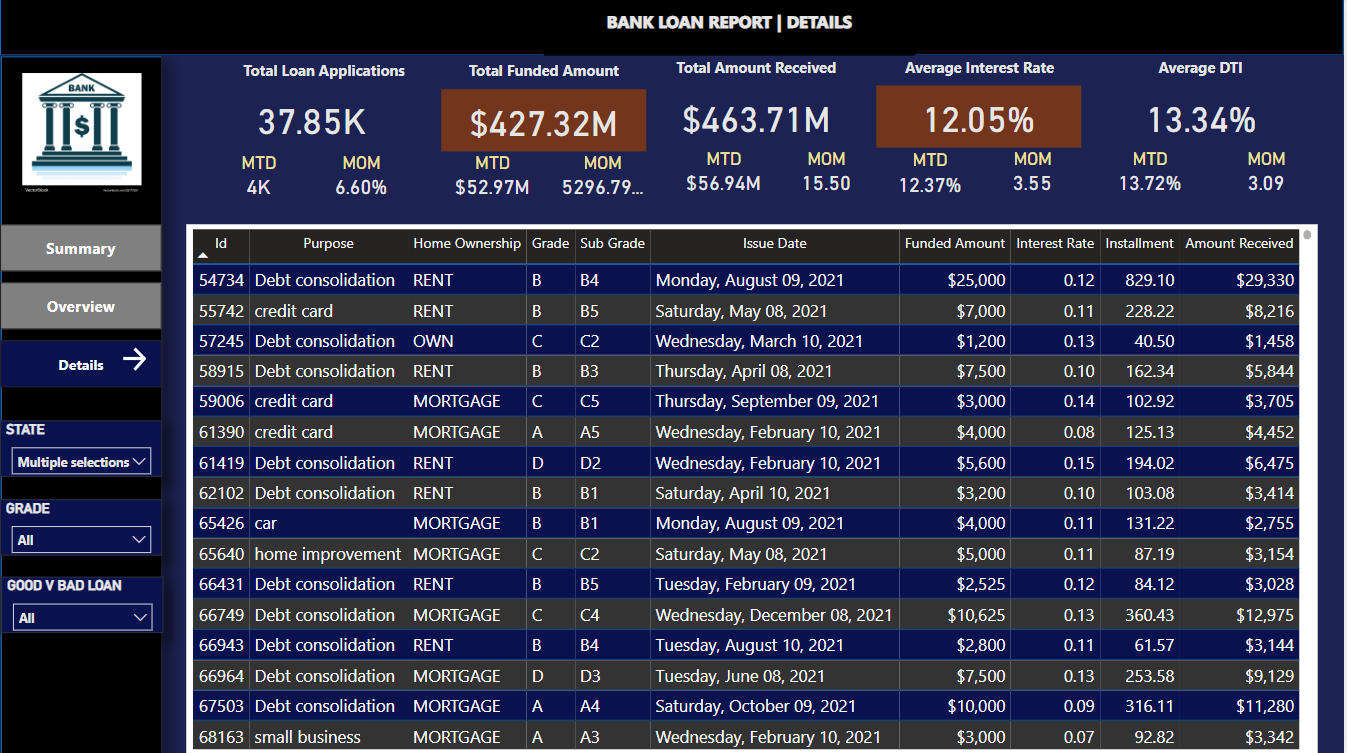

What the dashboard file says about the page in this screenshot:
{"tool":"powerbi","page":{"name":"Details","canvas":[1280,720],"ordinal":2},"visuals":[{"type":"shape","box":[0,54.8,154.8,665.5],"z":0},{"type":"textbox","box":[396.4,0,489.3,54.8],"z":1000},{"type":"textbox","box":[615.5,51.2,209.5,32.1],"z":2000},{"type":"card","fields":{"Values":["Bank_loan_data.Total Funded Amount"]},"box":[420.2,86.9,195.2,59.5],"z":3000},{"type":"textbox","box":[191.7,54.8,198.8,28.6],"z":4000},{"type":"card","title":"MOM","fields":{"Values":["Bank_loan_data.MOM TOTAL AMOUNT RECEIVED"]},"box":[738.1,142.9,97.6,48.8],"z":5000},{"type":"card","fields":{"Values":["Bank_loan_data.Total Loan Applications"]},"box":[197.6,83.3,198.8,63.1],"z":6000},{"type":"card","title":"MTD","fields":{"Values":["Bank_loan_data.MTD LOAN APPLICATIONS"]},"box":[197.6,146.4,97.6,48.8],"z":7000},{"type":"card","title":"MOM","fields":{"Values":["Bank_loan_data.MOM LOAN APPLICATIONS"]},"box":[295.2,146.4,97.6,48.8],"z":8000},{"type":"textbox","box":[413.1,54.8,209.5,32.1],"z":9000},{"type":"card","title":"MTD","fields":{"Values":["Bank_loan_data.MTD FUNDED AMOUNT"]},"box":[420.2,146.4,97.6,48.8],"z":10000},{"type":"card","title":"MOM","fields":{"Values":["Bank_loan_data.MOM FUNDED AMOUNT"]},"box":[525,146.4,97.6,48.8],"z":11000},{"type":"card","fields":{"Values":["Bank_loan_data.Total Amount Received"]},"box":[622.6,83.3,195.2,59.5],"z":12000},{"type":"card","title":"MTD","fields":{"Values":["Bank_loan_data.MTD Amount Received"]},"box":[640.5,142.9,97.6,48.8],"z":13000},{"type":"textbox","box":[835.7,51.2,194,32.1],"z":14000},{"type":"card","fields":{"Values":["Bank_loan_data.Average Interest Rate"]},"box":[834.5,83.3,195.2,59.5],"z":15000},{"type":"card","title":"MTD","fields":{"Values":["Bank_loan_data.MTD Average Rate"]},"box":[836.9,144,97.6,48.8],"z":16000},{"type":"card","title":"MOM","fields":{"Values":["Bank_loan_data.MOM Average Interest Rate"]},"box":[934.5,142.9,97.6,48.8],"z":17000},{"type":"card","fields":{"Values":["Bank_loan_data.Average DTI"]},"box":[1046.4,83.3,195.2,59.5],"z":18000},{"type":"textbox","box":[1046.4,51.2,194,31],"z":19000},{"type":"card","title":"MTD","fields":{"Values":["Bank_loan_data.MTD Average DTI"]},"box":[1046.4,142.9,97.6,48.8],"z":20000},{"type":"card","title":"MOM","fields":{"Values":["Bank_loan_data.MOM Average TDI"]},"box":[1157.1,142.9,97.6,48.8],"z":21000},{"type":"shape","box":[0,0,1279.8,54.8],"z":22000},{"type":"slicer","title":"STATE","fields":{"Values":["Bank_loan_data.address_state"]},"box":[0,402.4,154.8,53.6],"z":23000},{"type":"slicer","title":"GRADE","fields":{"Values":["Bank_loan_data.grade"]},"box":[0,477.4,154.8,53.6],"z":24000},{"type":"slicer","title":"GOOD V BAD LOAN","fields":{"Values":["Bank_loan_data.loan_status (groups)"]},"box":[1.2,551.2,154.8,53.6],"z":25000},{"type":"textbox","box":[517.9,6,353.6,48.8],"z":26000},{"type":"tableEx","fields":{"Values":["Bank_loan_data.id","Bank_loan_data.purpose","Bank_loan_data.home_ownership","Bank_loan_data.grade","Bank_loan_data.sub_grade","Bank_loan_data.issue_date","Bank_loan_data.Total Funded Amount","Sum(Bank_loan_data.int_rate)","Sum(Bank_loan_data.installment)","Bank_loan_data.Total Amount Received"]},"box":[177.4,215.5,1077.4,504.8],"z":28001},{"type":"image","box":[1.2,66.7,153.6,126.2],"z":28002},{"type":"pageNavigator","box":[0,215.5,154.8,156],"z":28003},{"type":"actionButton","box":[111.9,328.6,44,31],"z":28004}]}

Visuals, with their boxes in screenshot pixels (x1, y1, x2, y2), scaled from the page's 1280x720 canvas onto the 1347x753 screenshot:
shape: 0,57,163,752
textbox: 417,0,932,57
textbox: 648,54,868,87
card - Bank_loan_data.Total Funded Amount: 442,91,648,153
textbox: 202,57,411,87
"MOM" card: 777,149,879,200
card - Bank_loan_data.Total Loan Applications: 208,87,417,153
"MTD" card: 208,153,311,204
"MOM" card: 311,153,413,204
textbox: 435,57,655,91
"MTD" card: 442,153,545,204
"MOM" card: 552,153,655,204
card - Bank_loan_data.Total Amount Received: 655,87,861,149
"MTD" card: 674,149,777,200
textbox: 879,54,1084,87
card - Bank_loan_data.Average Interest Rate: 878,87,1084,149
"MTD" card: 881,151,983,202
"MOM" card: 983,149,1086,200
card - Bank_loan_data.Average DTI: 1101,87,1307,149
textbox: 1101,54,1305,86
"MTD" card: 1101,149,1204,200
"MOM" card: 1218,149,1320,200
shape: 0,0,1346,57
"STATE" slicer: 0,421,163,477
"GRADE" slicer: 0,499,163,555
"GOOD V BAD LOAN" slicer: 1,576,164,633
textbox: 545,6,917,57
tableEx - Bank_loan_data.id x Bank_loan_data.purpose: 187,225,1320,752
image: 1,70,163,202
pageNavigator: 0,225,163,389
actionButton: 118,344,164,376
